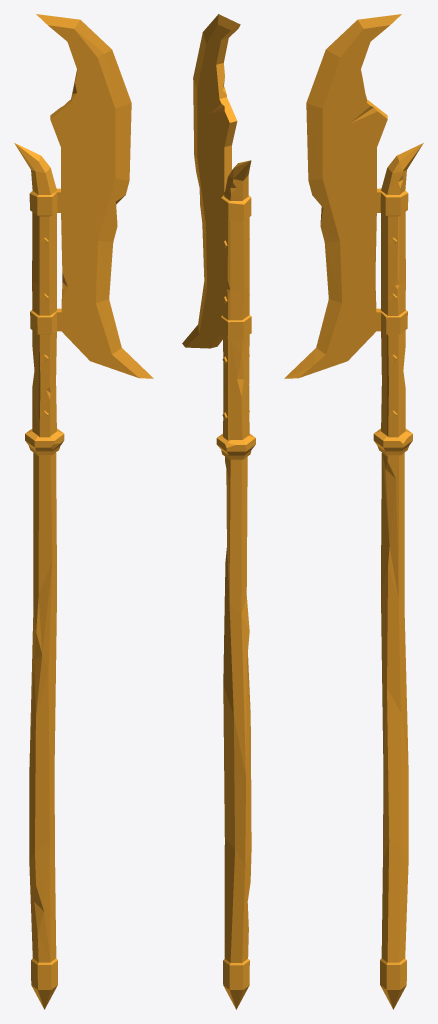
Rendered from SM_Bardiche_B_Fantasy.fbx.
The picture shows the model from 3 angles, left to right: view 1: azimuth 90°, elevation 25°; view 2: azimuth 210°, elevation 25°; view 3: azimuth 270°, elevation 25°; orthographic projection.
Visible parts, largest first — view 1: bardiche-b-fantasy; view 2: bardiche-b-fantasy; view 3: bardiche-b-fantasy.
Boxes of the visible parts, x1,y1,x2,y2 form: bardiche-b-fantasy: [14, 14, 153, 1009]; bardiche-b-fantasy: [182, 14, 255, 1009]; bardiche-b-fantasy: [284, 14, 423, 1009].
Bounding box in the file's own units: 0.0459 × 1.48 × 0.1878.
